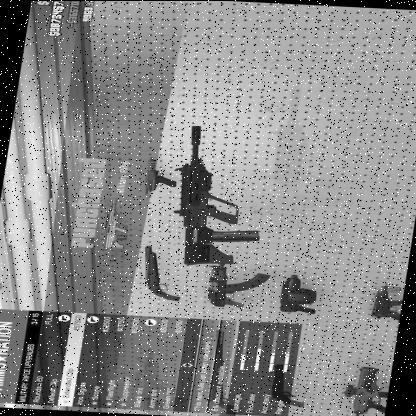rifle: (164, 125, 280, 271)
